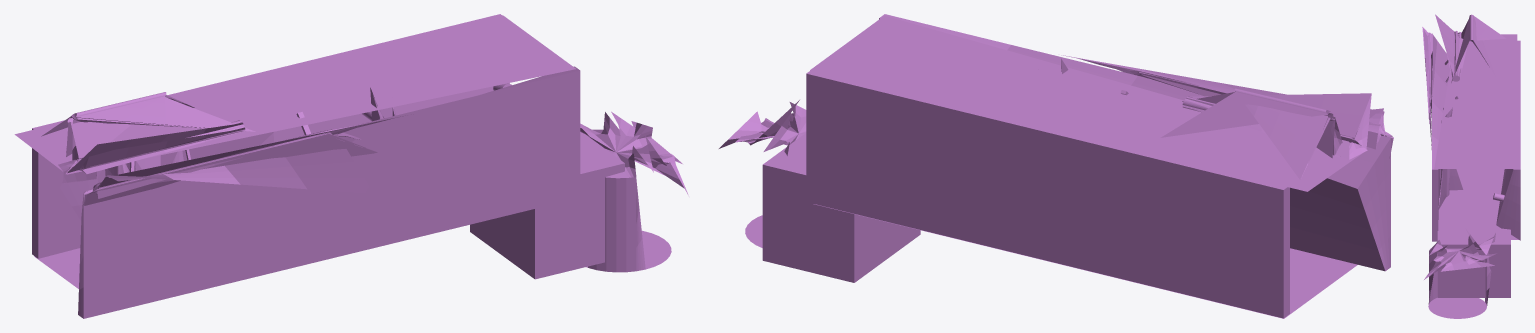
The model's file is MainPlatform2.fbx.
The picture shows the model from 3 angles, left to right: view 1: azimuth 30°, elevation 25°; view 2: azimuth 150°, elevation 25°; view 3: azimuth 270°, elevation 25°; orthographic projection. The views are drawn at different scales.
Parts seen in each view (by area): view 1: Cube; view 2: Cube; view 3: Cube.
Boxes of the visible parts, <box> form: Cube: <box>14,14,688,318</box>; Cube: <box>719,14,1393,318</box>; Cube: <box>1422,14,1520,318</box>.
Size of the model in its own units: 1352 by 547 by 335.
